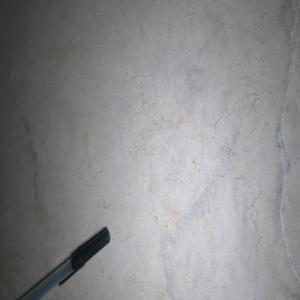Pen: (19, 227, 109, 300)
